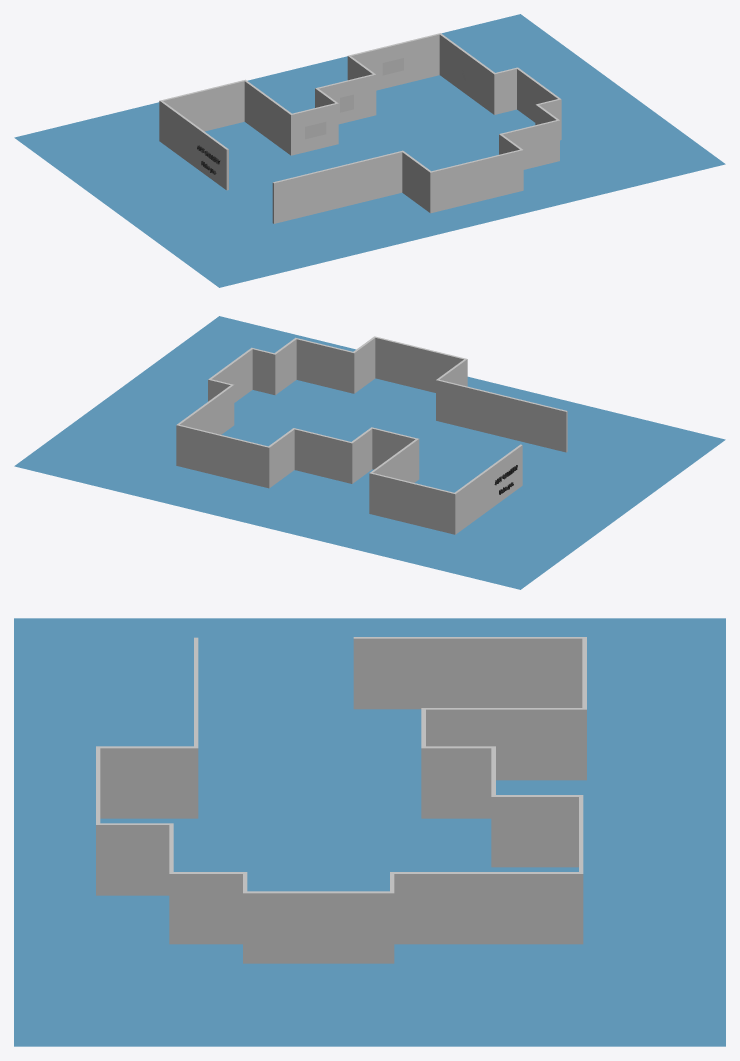
The model's file is art_gallery.glb.
The picture shows the model from 3 angles, top to bottom: view 1: azimuth 30°, elevation 25°; view 2: azimuth 150°, elevation 25°; view 3: azimuth 270°, elevation 25°; orthographic projection. The views are drawn at different scales.
Visible parts, largest first — view 1: Plane001, Line001; view 2: Plane001, Line001; view 3: Plane001, Line001.
Boxes of the visible parts, <box> form: Plane001: <box>14,14,725,287</box>; Line001: <box>159,33,561,223</box>; Plane001: <box>14,316,725,589</box>; Line001: <box>176,336,567,534</box>; Plane001: <box>14,618,725,1046</box>; Line001: <box>96,637,586,963</box>.
Size of the model in its own units: 42.74 by 3.28 by 30.
